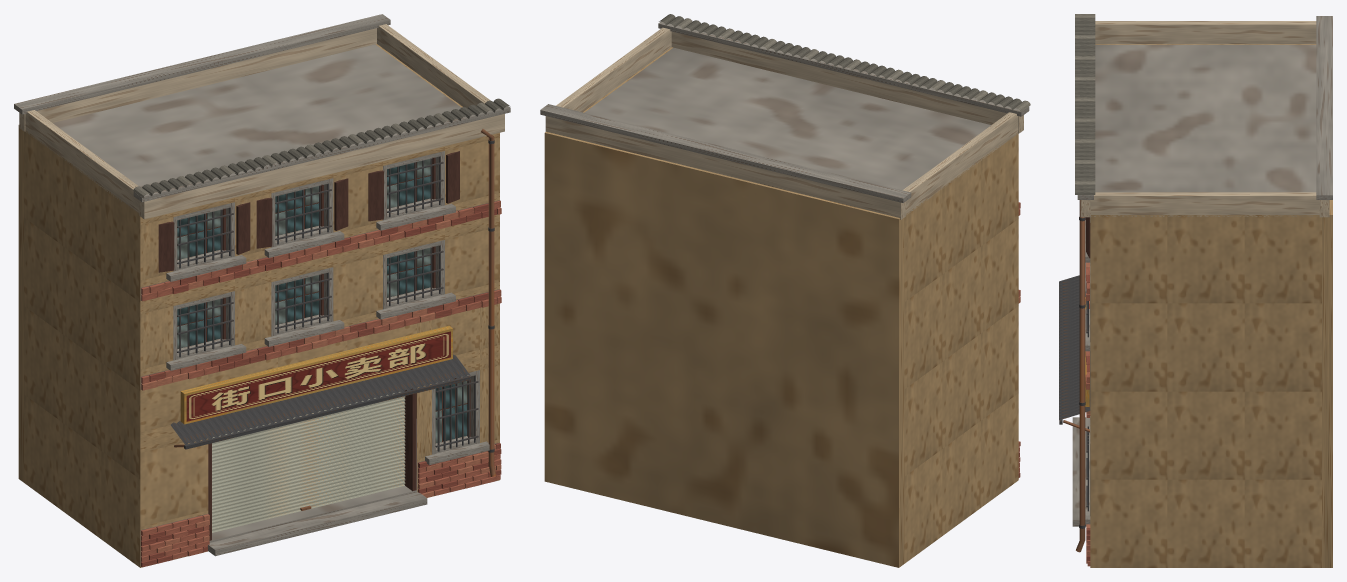
The model's file is scene-shop.glb.
3 views of the same model, side by side, from view 1: azimuth 30°, elevation 25°; view 2: azimuth 150°, elevation 25°; view 3: azimuth 270°, elevation 25° (orthographic).
Parts seen in each view (by area): view 1: scene-shop; view 2: scene-shop; view 3: scene-shop.
Part boxes in pixels (left/top/right/bottom): scene-shop: left=14, top=14, right=510, bottom=567; scene-shop: left=540, top=14, right=1030, bottom=567; scene-shop: left=1059, top=14, right=1332, bottom=567.
Size of the model in its own units: 6.2 by 6.1 by 4.
3 materials, 3 textured.
